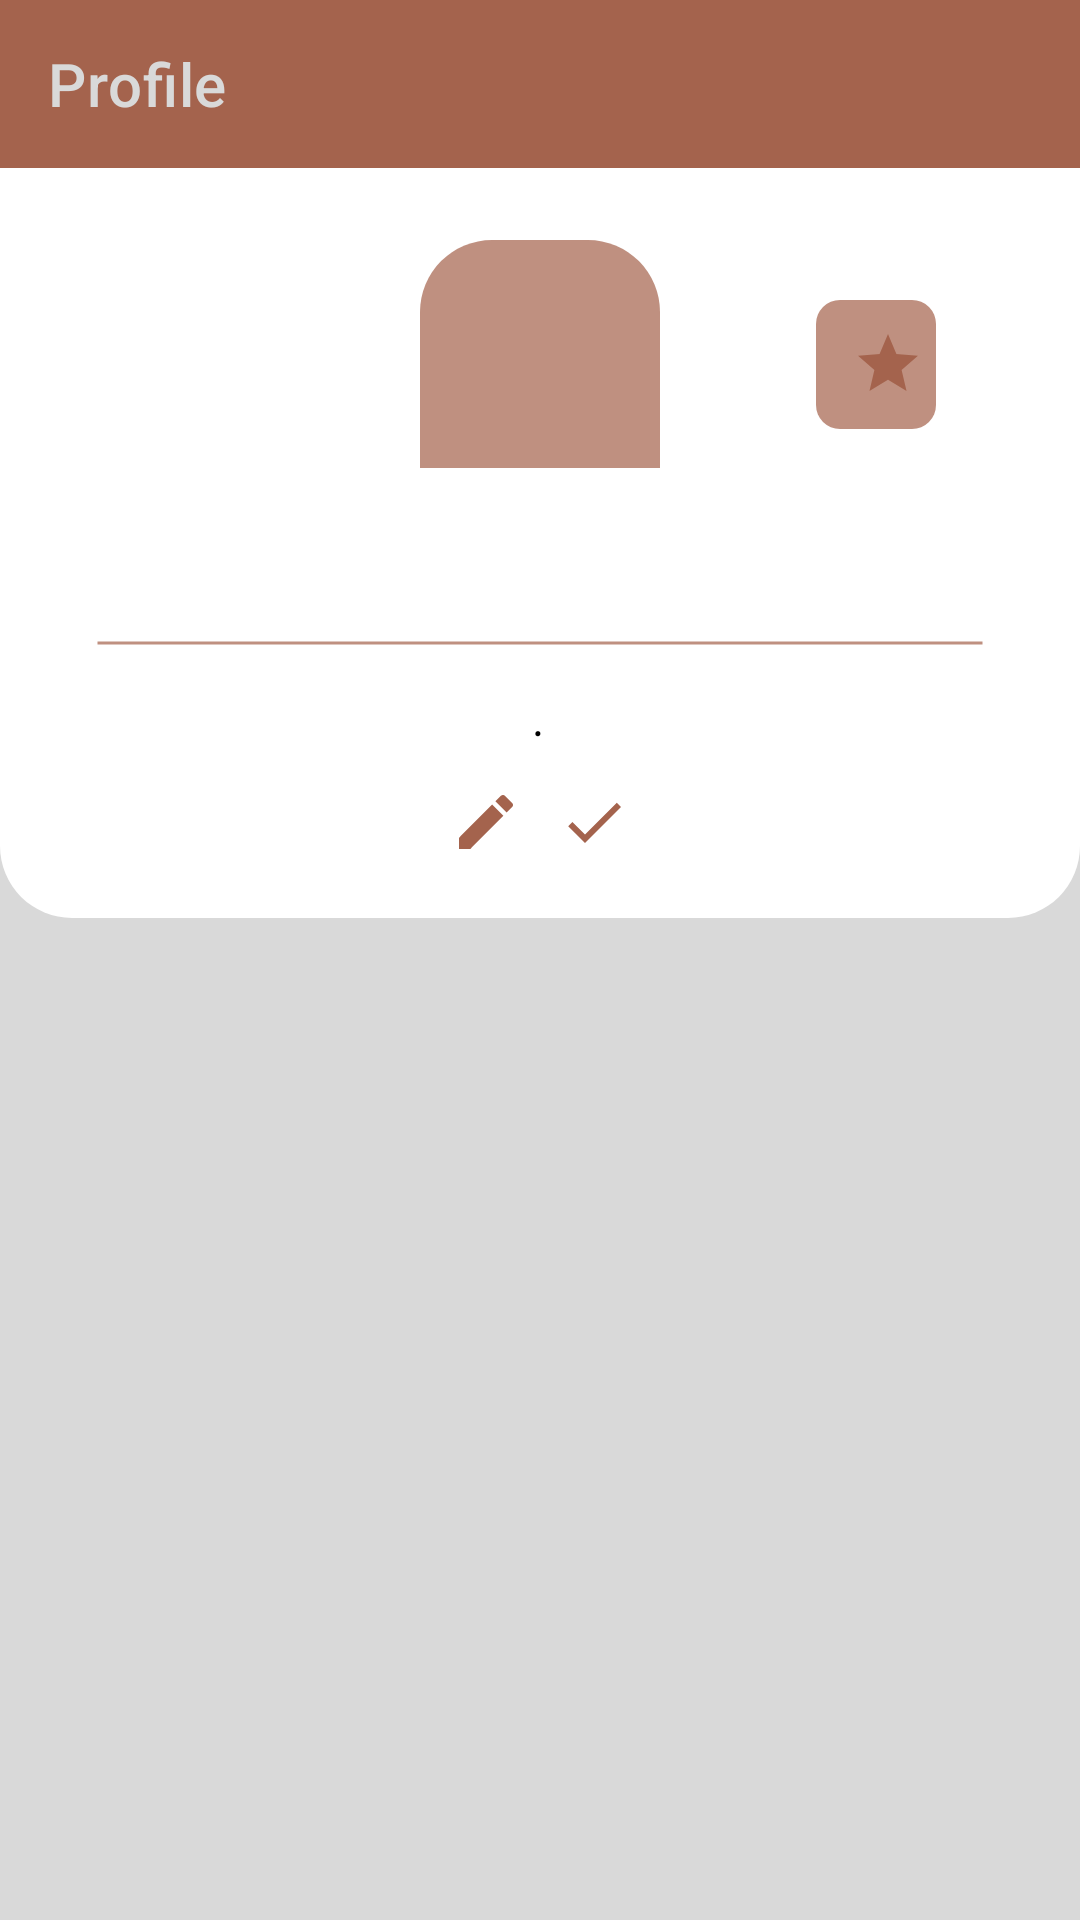

Screen size 1080w x 1920h. Icon name, then its center in pixels as (x,y):
done: (594,823)
edit: (486,822)
star: (888,362)
